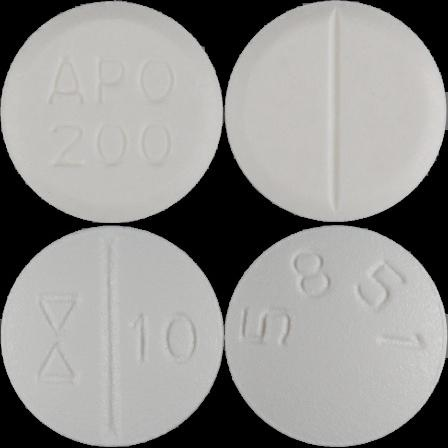51655-017: (0, 0, 224, 224)
